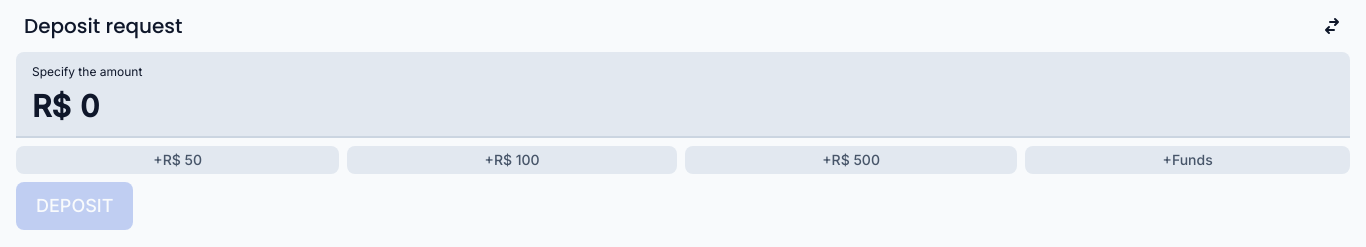
FundsInput › should switch the transaction type when clicking the switch icon
Expected: the heading "Deposit request" is shown, [16, 12, 190, 40]
Click the button with test id "switch-transaction".
click(1332, 26)  # box [1314, 8, 1350, 44]
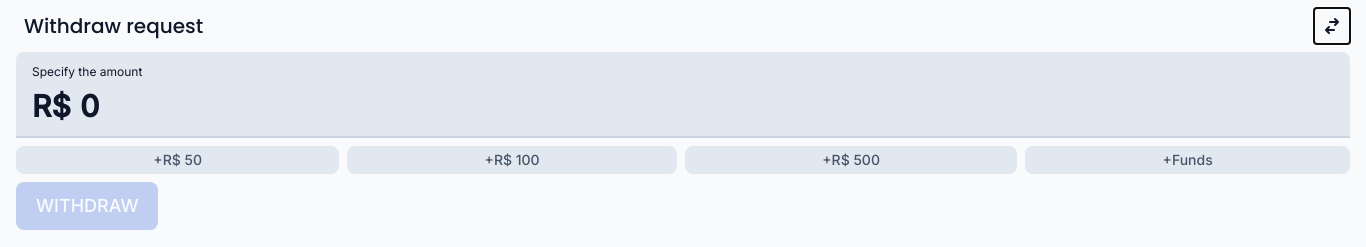
Expected: the heading "Withdraw request" is shown, [16, 12, 211, 40]
